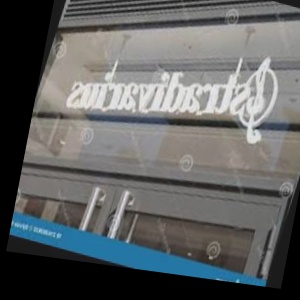stradivarius: (68, 70, 300, 165)
